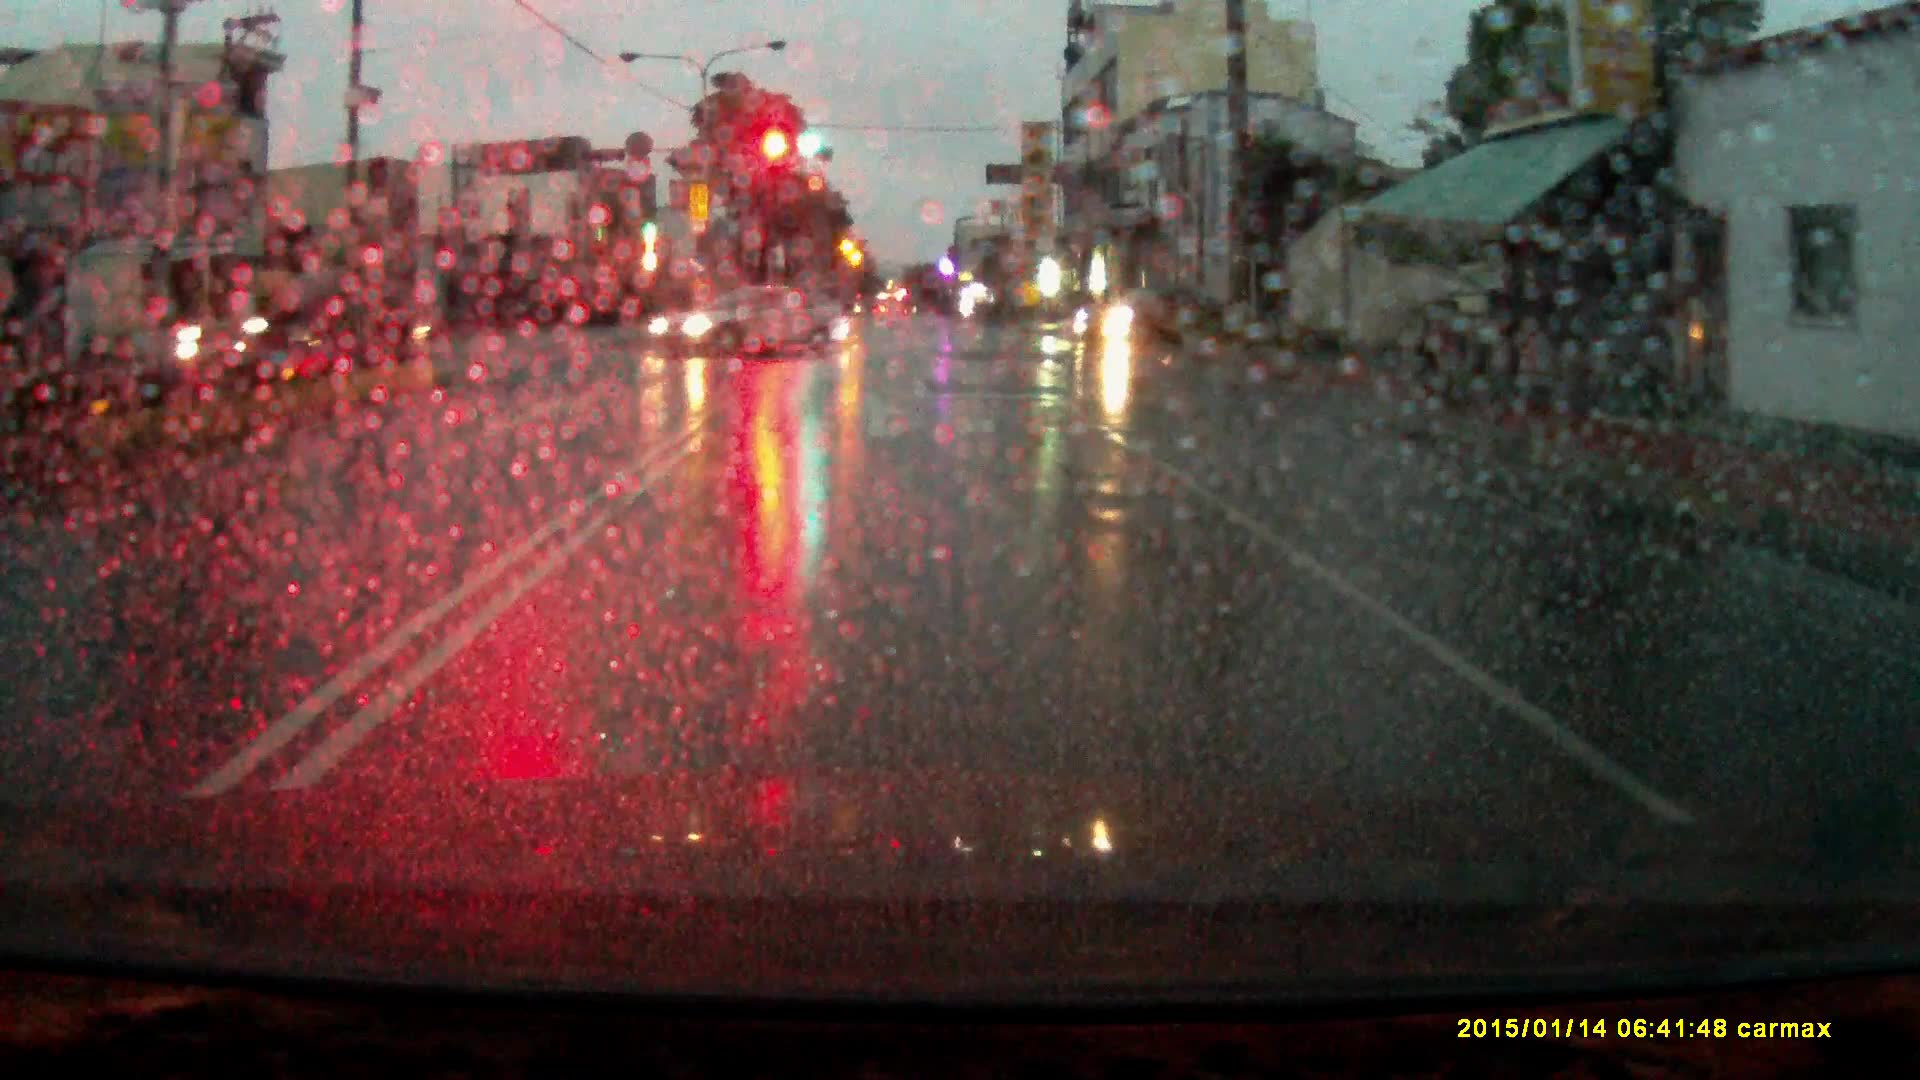vehicle: (185, 272, 440, 372), (644, 281, 855, 361), (1076, 290, 1236, 344)
